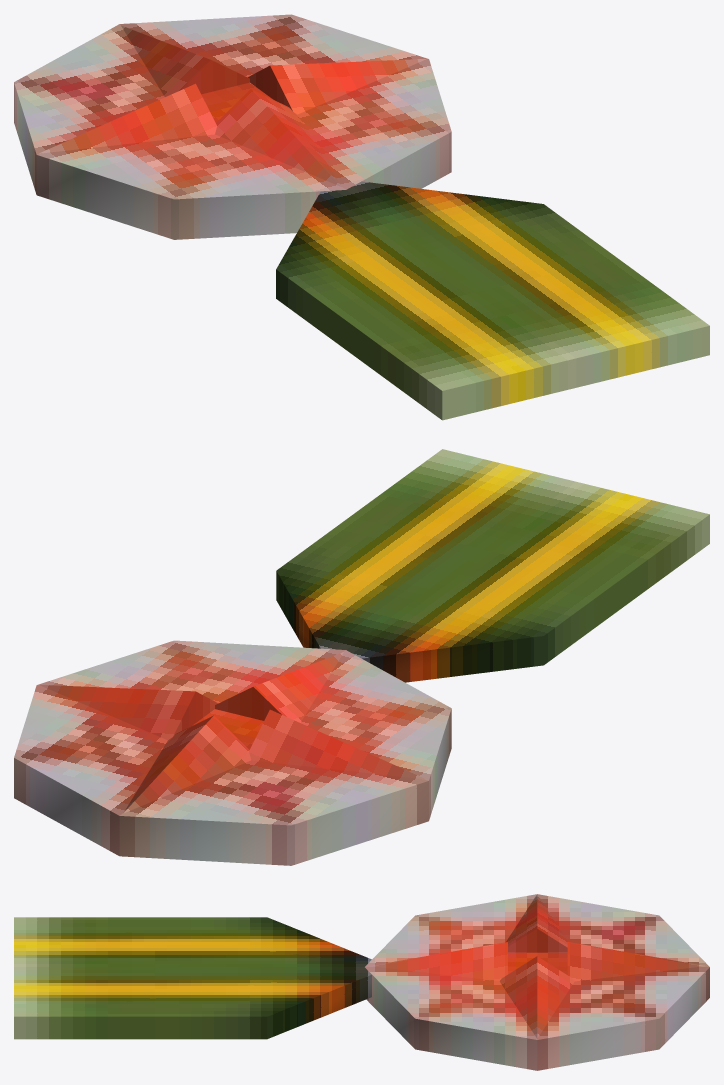
Rendered from MagicBox06.glb.
The picture shows the model from 3 angles, top to bottom: view 1: azimuth 30°, elevation 25°; view 2: azimuth 150°, elevation 25°; view 3: azimuth 270°, elevation 25°; orthographic projection. The views are drawn at different scales.
Visible parts, largest first — view 1: model_MagicBox06; view 2: model_MagicBox06; view 3: model_MagicBox06.
Part boxes in pixels (box(x1,y1,x2,y2)): model_MagicBox06: box(14, 14, 709, 420); model_MagicBox06: box(14, 449, 709, 865); model_MagicBox06: box(14, 894, 709, 1070).
Size of the model in its own units: 0.3525 by 0.0897 by 0.7104.
Materials: 2 (2 with a texture image).
